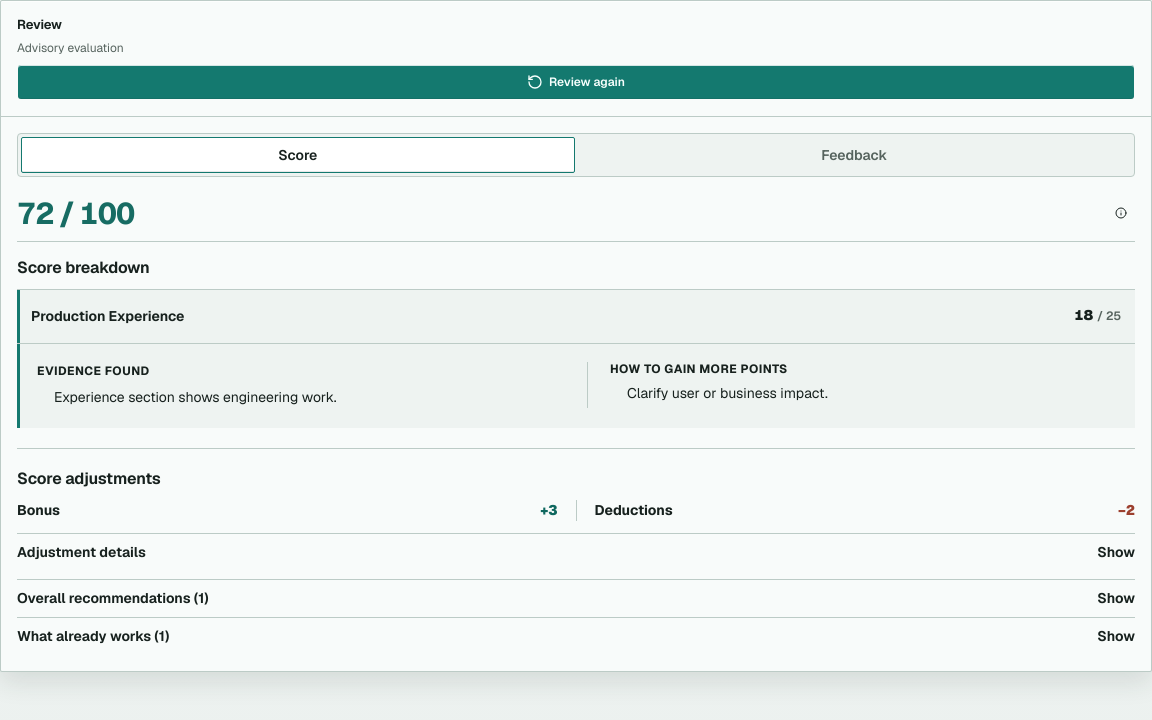
Scenario: ReviewPanel › stages Score and Feedback in the Review panel
Check: the text "72 / 100" is shown, box 17,199 -> 134,229
Check: the text "Quantify production impact." is not shown
Click the button "Overall recommendations (1) Show".
click(113, 598)  # box 17,579 -> 1135,617
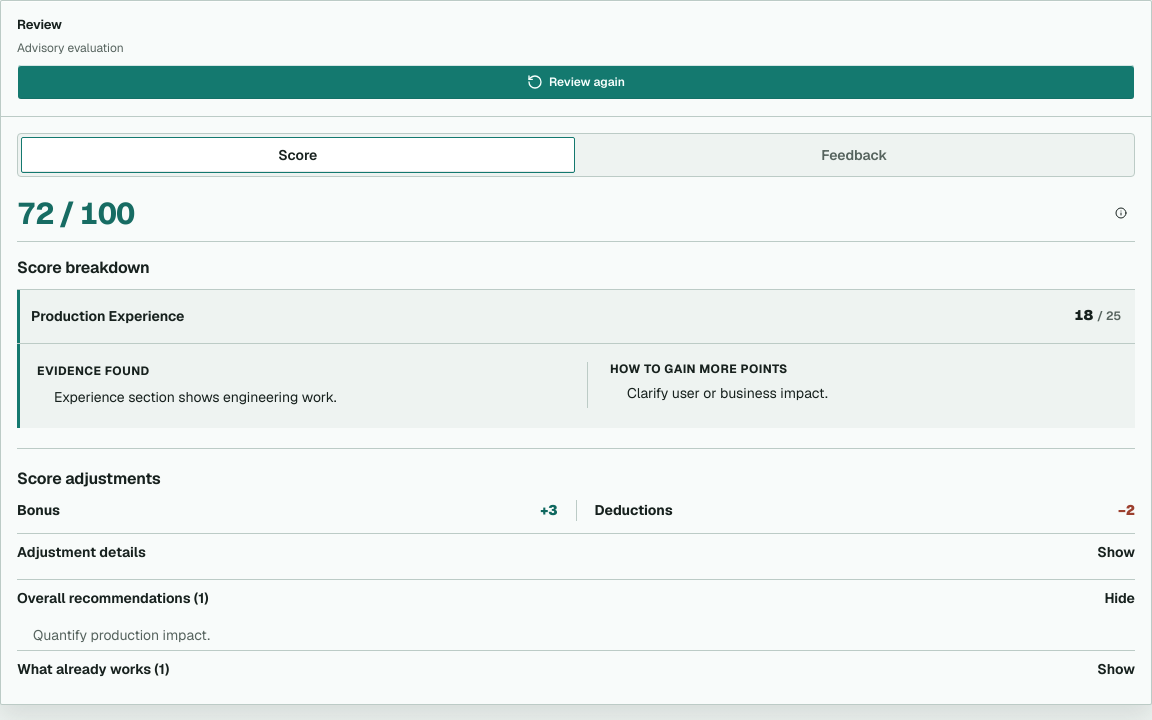
Check: the list item "Quantify production impact." is shown, box 33,626 -> 210,644
Click the button "Feedback".
click(854, 155)  # box 578,137 -> 1131,173
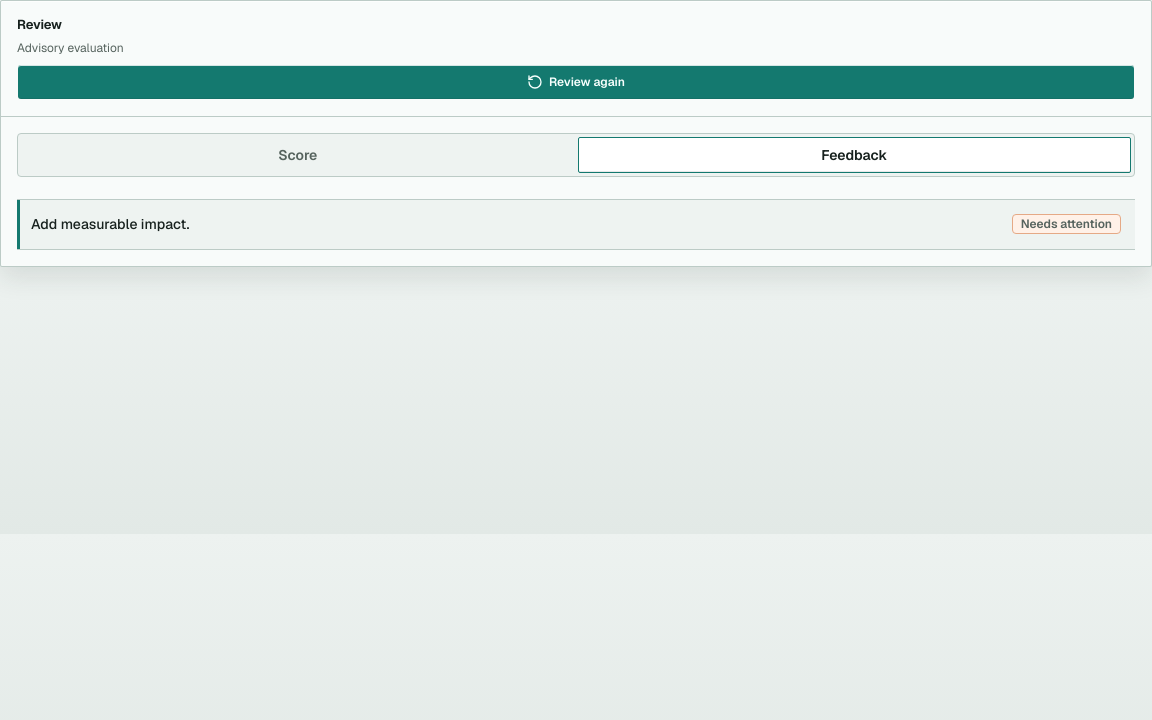
Check: the text "Add measurable impact." is shown, box 31,215 -> 190,233
Check: the list item "Quantify production impact." is gone
